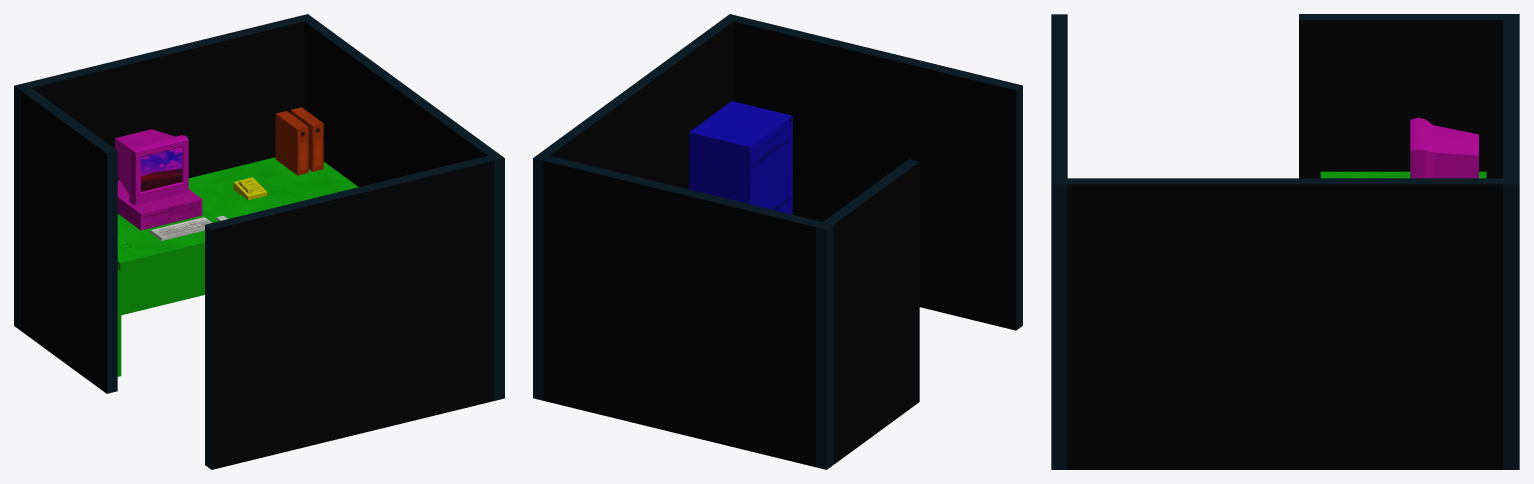
File: SM_CubicleFull.glb
3 views of the same model, side by side, from view 1: azimuth 30°, elevation 25°; view 2: azimuth 150°, elevation 25°; view 3: azimuth 270°, elevation 25° (orthographic). The views are drawn at different scales.
Parts seen in each view (by area): view 1: SM_CubicleFull; view 2: SM_CubicleFull; view 3: SM_CubicleFull.
Boxes of the visible parts, x1,y1,x2,y2 form: SM_CubicleFull: (14, 14, 504, 469); SM_CubicleFull: (533, 14, 1022, 469); SM_CubicleFull: (1051, 14, 1519, 469).
Size of the model in its own units: 1.94 by 1.52 by 2.26.
Materials: 1 (1 with a texture image).
